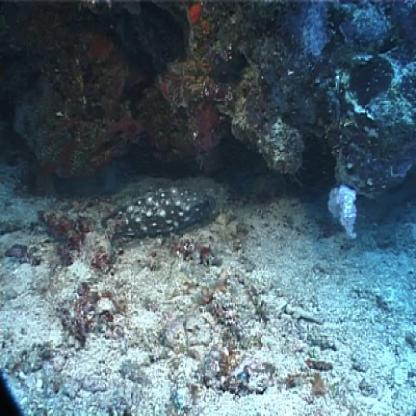Bio: (99, 181, 221, 260)
